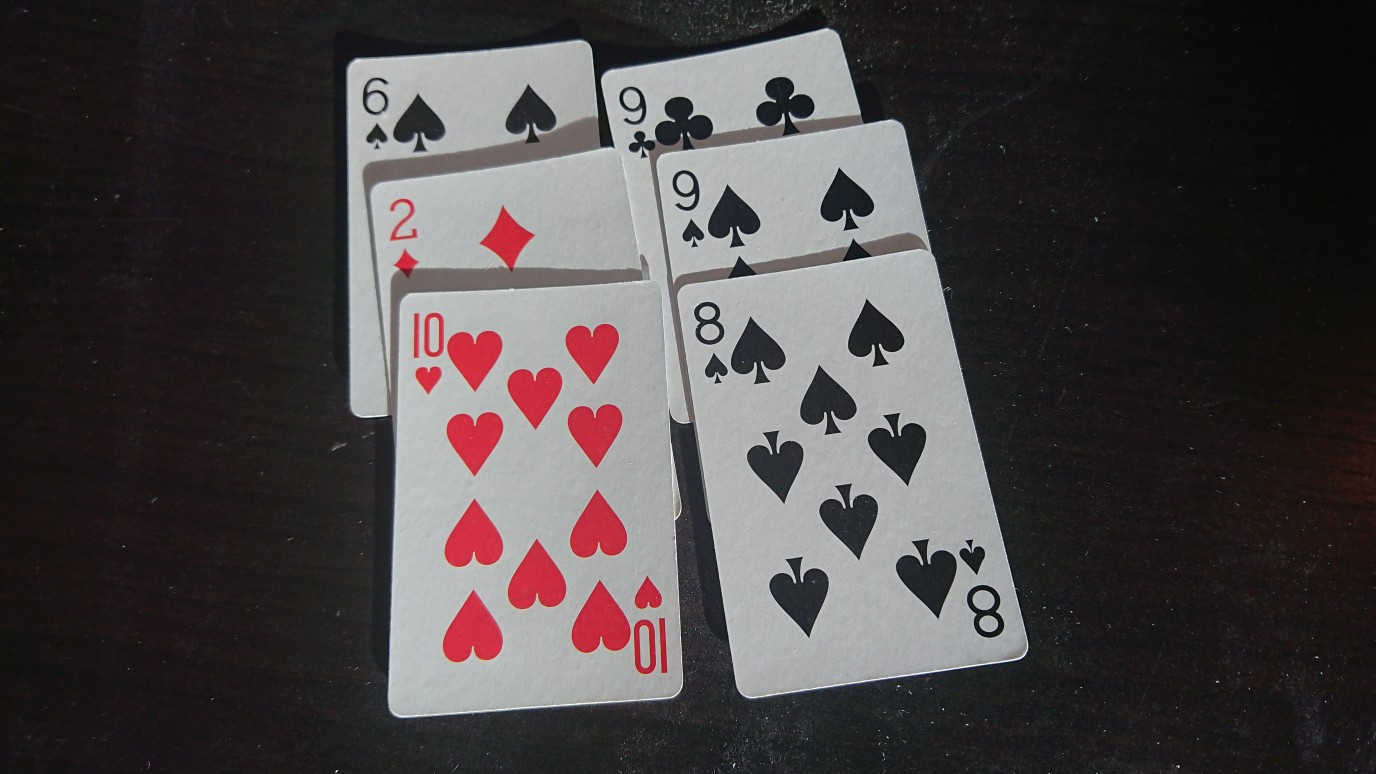10H: (409, 308, 447, 399)
2D: (384, 193, 425, 282)
6S: (358, 73, 392, 155)
8S: (689, 298, 730, 388)
9C: (612, 83, 658, 165)
9S: (668, 166, 708, 252)
